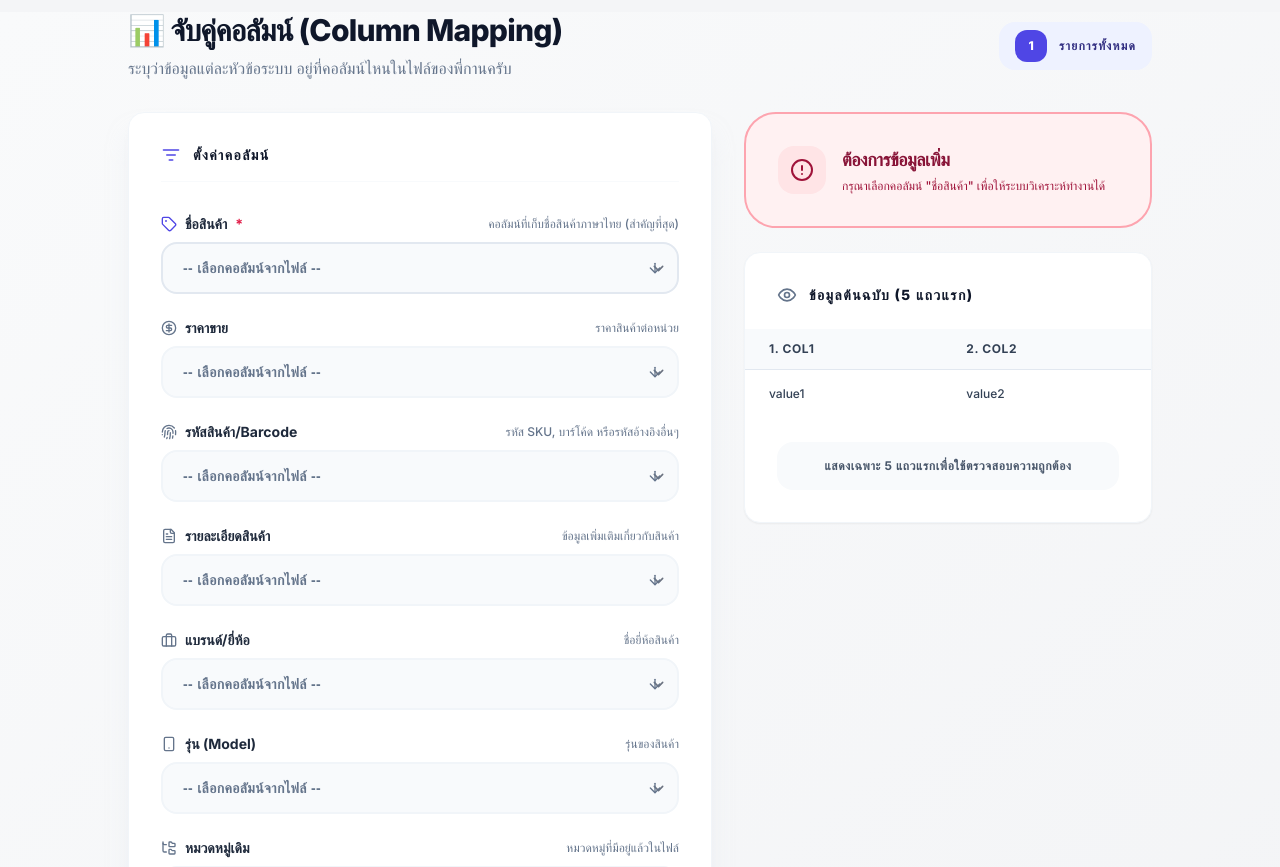
Test: ColumnMappingStep › เลือกคอลัมน์เองได้เมื่อระบบเดาไม่ได้
Expected: the heading "📊 จับคู่คอลัมน์ (Column Mapping)" is shown, x1=128 y1=12 x2=562 y2=48
Expected: the heading "ต้องการข้อมูลเพิ่ม" is shown, x1=842 y1=149 x2=950 y2=170
Select "1. col1 (เช่น: value1)" in the dropdown labelled "ชื่อสินค้า *": (420, 268) x1=161 y1=242 x2=679 y2=294
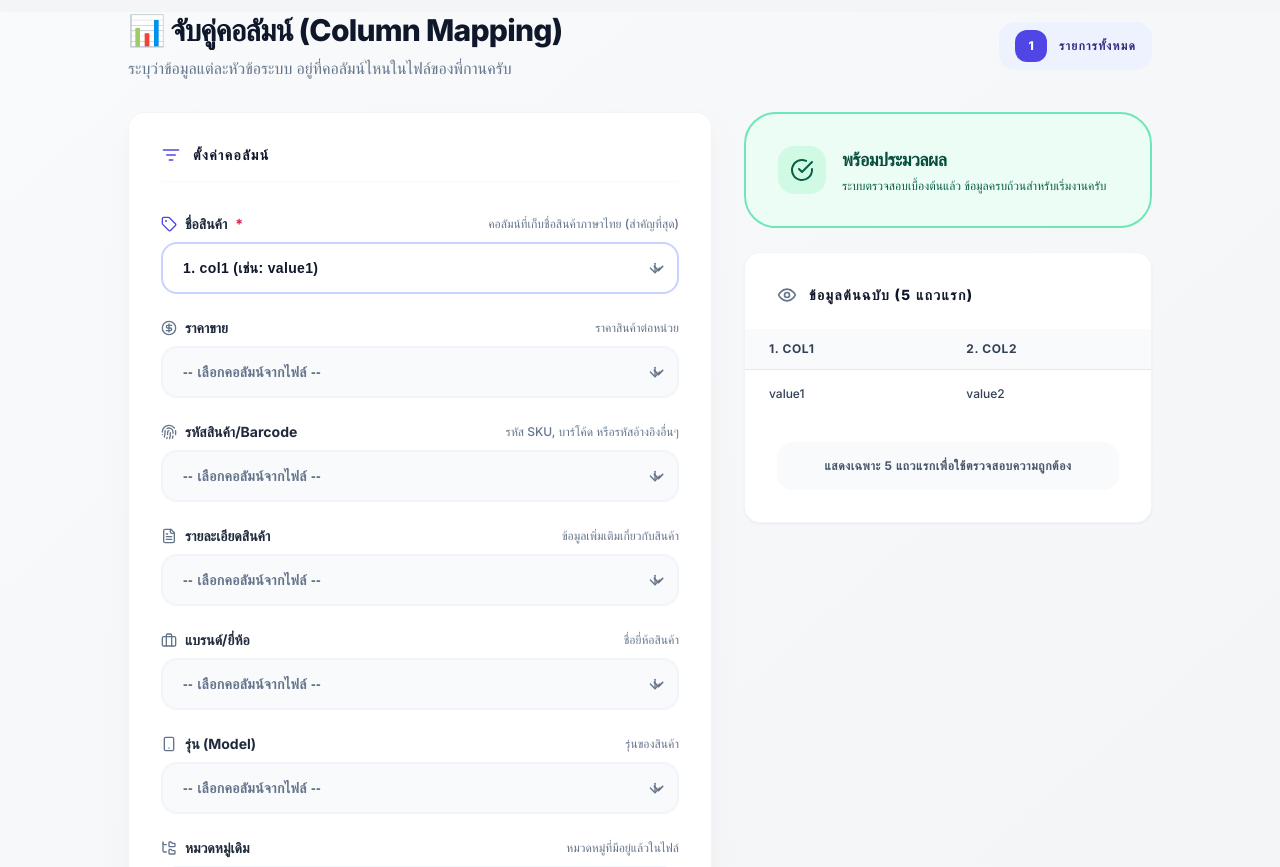
Result: the heading "พร้อมประมวลผล" is shown at x1=842 y1=149 x2=946 y2=170
